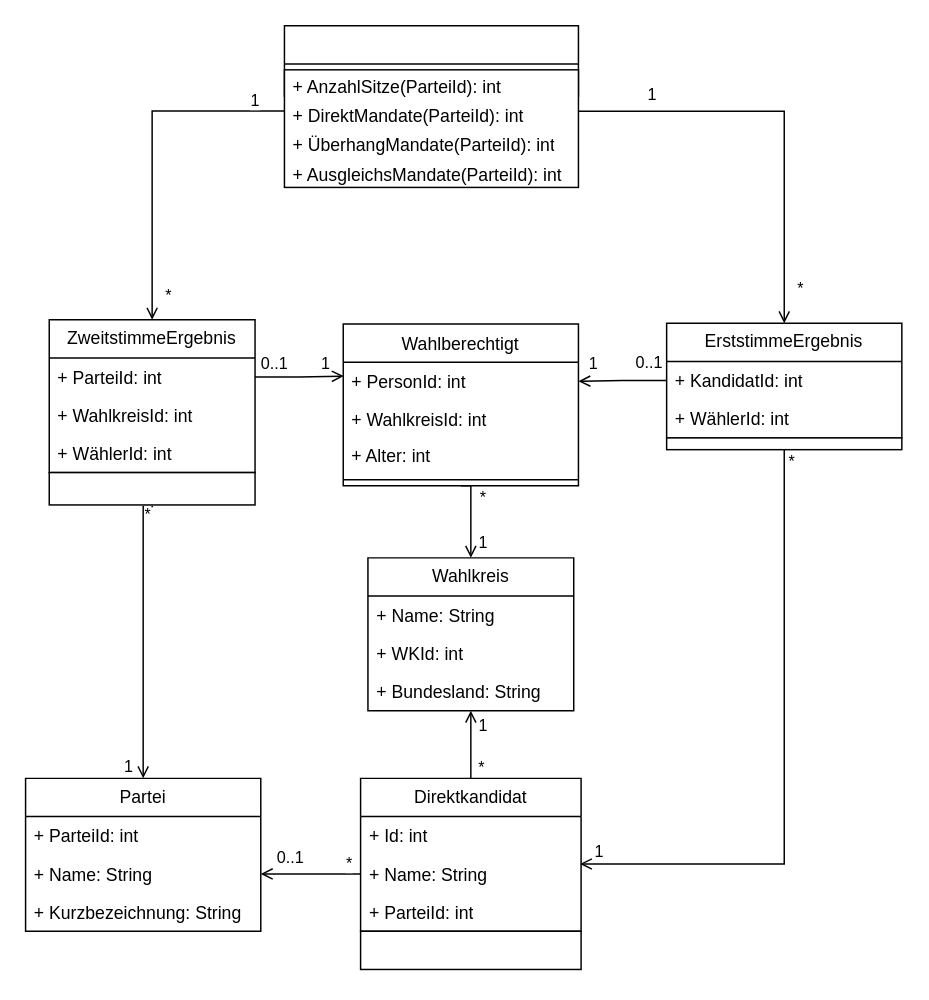
Image size: 929x1000. Some labels were removed from this diagram. The box of each missing label's shape, as (x1, y1, x2, y2) in pixels:
+ AnzahlKandidaten():int: (359, 930, 581, 969)
+ AnzahlParteien(): int: (48, 471, 255, 505)
Ergebnisse: (283, 24, 578, 96)
